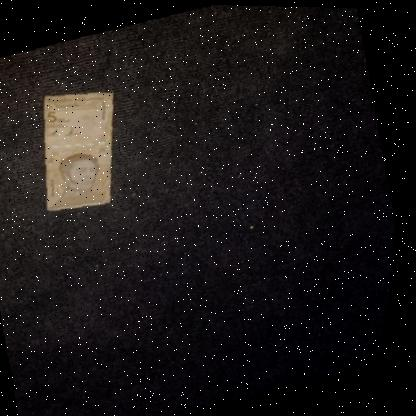five-front-vef: (23, 80, 140, 217)
